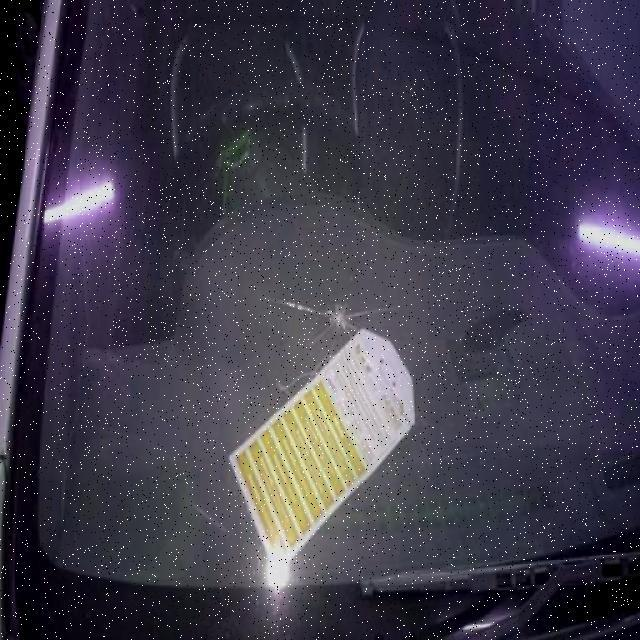car damage: (315, 284, 381, 354)
